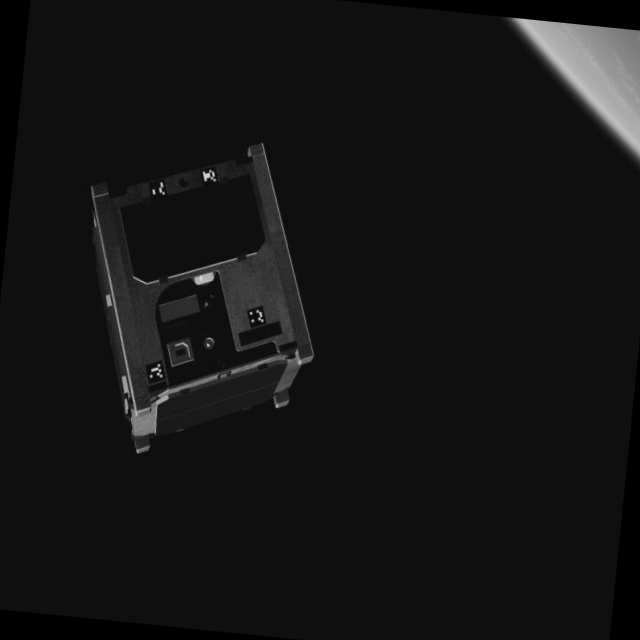satellite: (59, 128, 334, 483)
